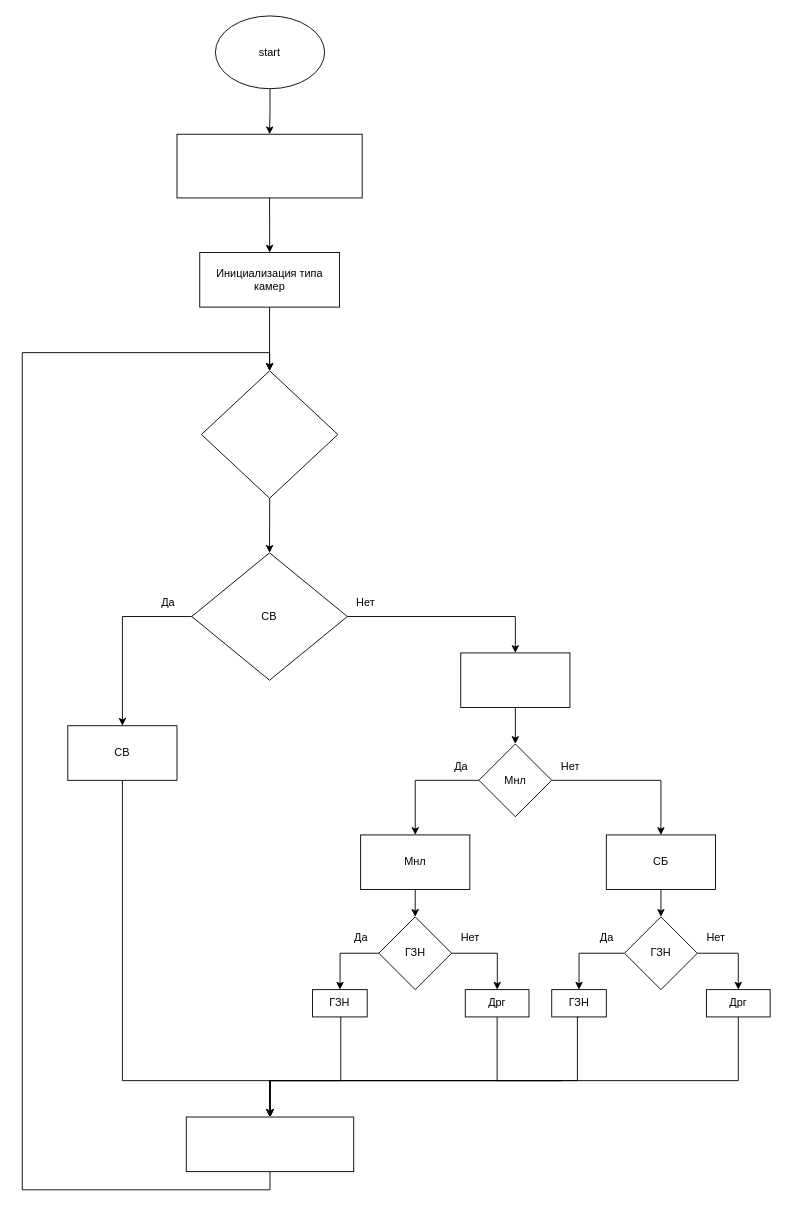
Some shapes in this 786 by 1213 pixel diagram are drawn without their labels. The shapes that lost their labels are listed below. From the top down, each one's centre as x and y in pixels, then its label:
At point 269,165: "Данные для построения и позиционирования камер".
At point 269,434: "4-х или 5-ти угловые камеры".
At point 515,680: "MH".
At point 269,1144: "Построение камеры и ее сохранение".
